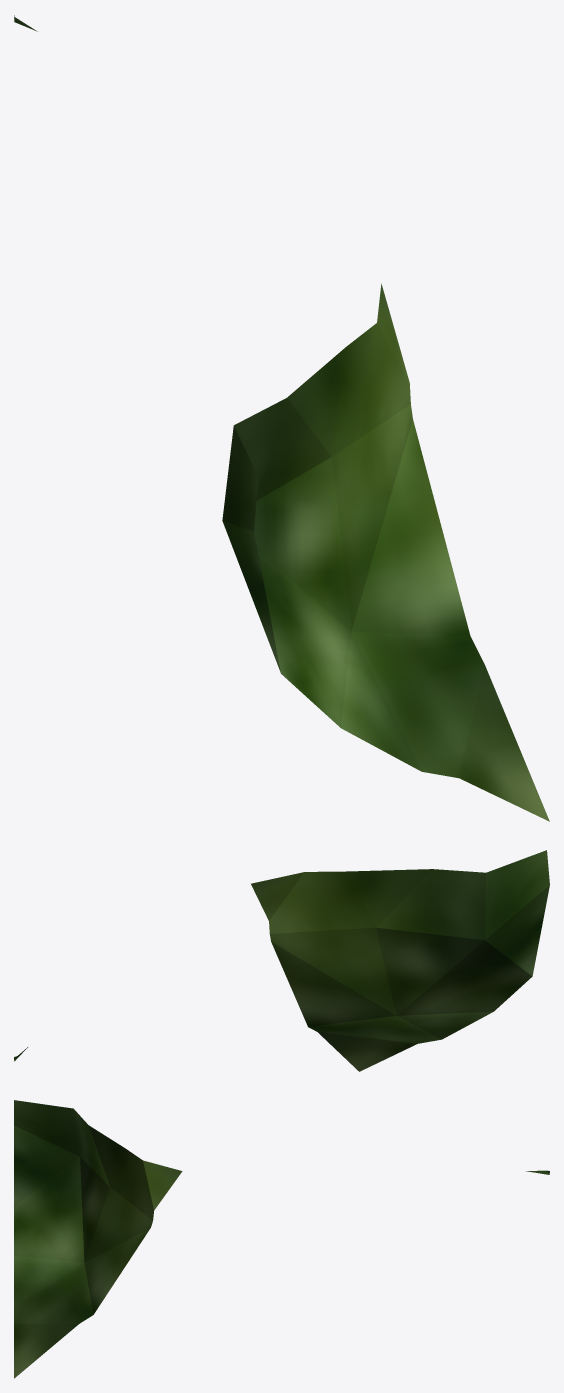
3 renders of one model, top to bottom at view 1: azimuth 30°, elevation 25°; view 2: azimuth 150°, elevation 25°; view 3: azimuth 270°, elevation 25°, orthographic. The views are drawn at different scales.
Size of the model in its own units: 0.0913 by 0.1225 by 0.2865.
1 material, 1 textured.
